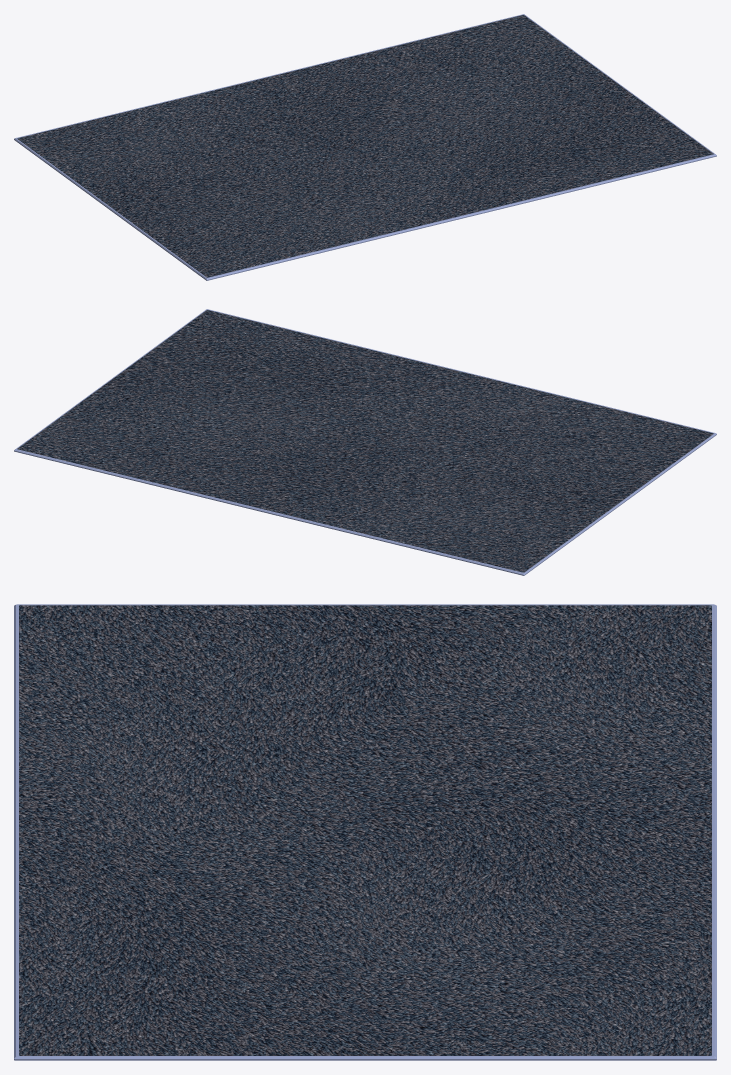
File: CarpetV1.glb
3 renders of one model, top to bottom at view 1: azimuth 30°, elevation 25°; view 2: azimuth 150°, elevation 25°; view 3: azimuth 270°, elevation 25°, orthographic. The views are drawn at different scales.
Visible parts, largest first — view 1: Plane.20067; view 2: Plane.20067; view 3: Plane.20067.
Part boxes in pixels (x1=…): Plane.20067: x1=14, y1=14, x2=716, y2=280; Plane.20067: x1=14, y1=309, x2=716, y2=575; Plane.20067: x1=14, y1=604, x2=716, y2=1060.
Bounding box in the file's own units: 6.69 × 0.0219 × 4.38.
Materials: 2 (1 with a texture image).
